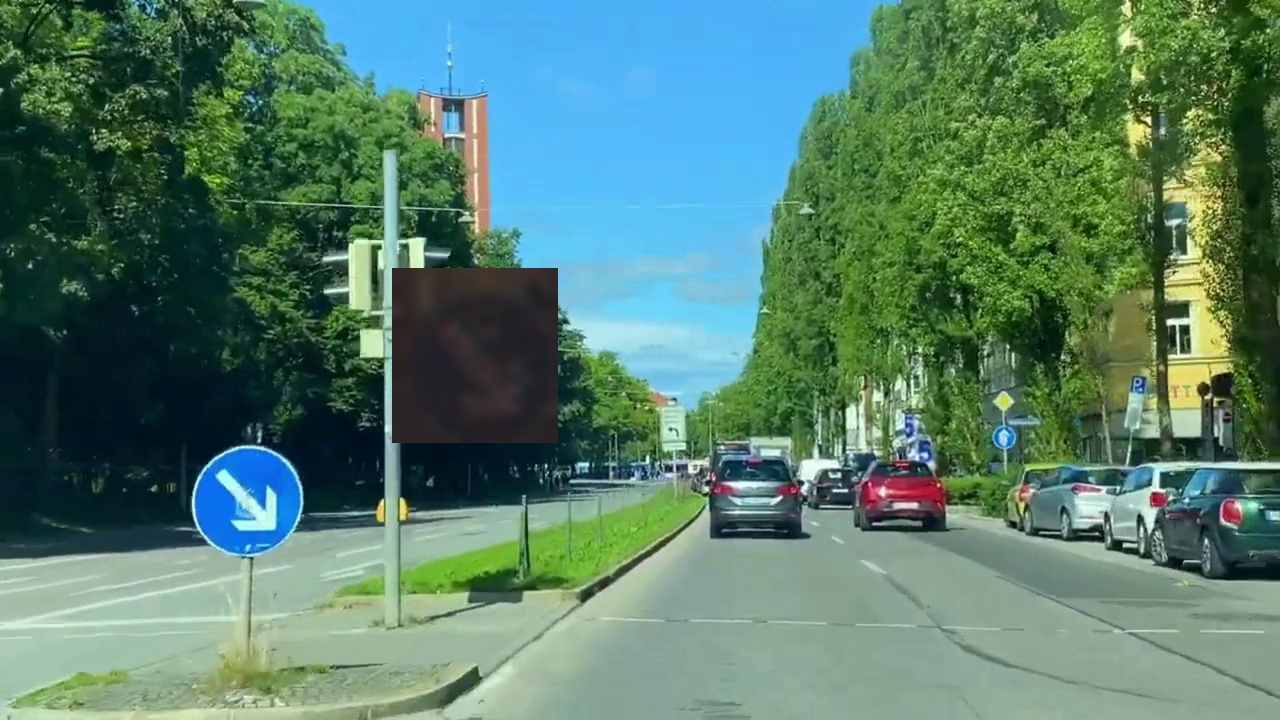Keep right: (392, 268, 558, 443)
